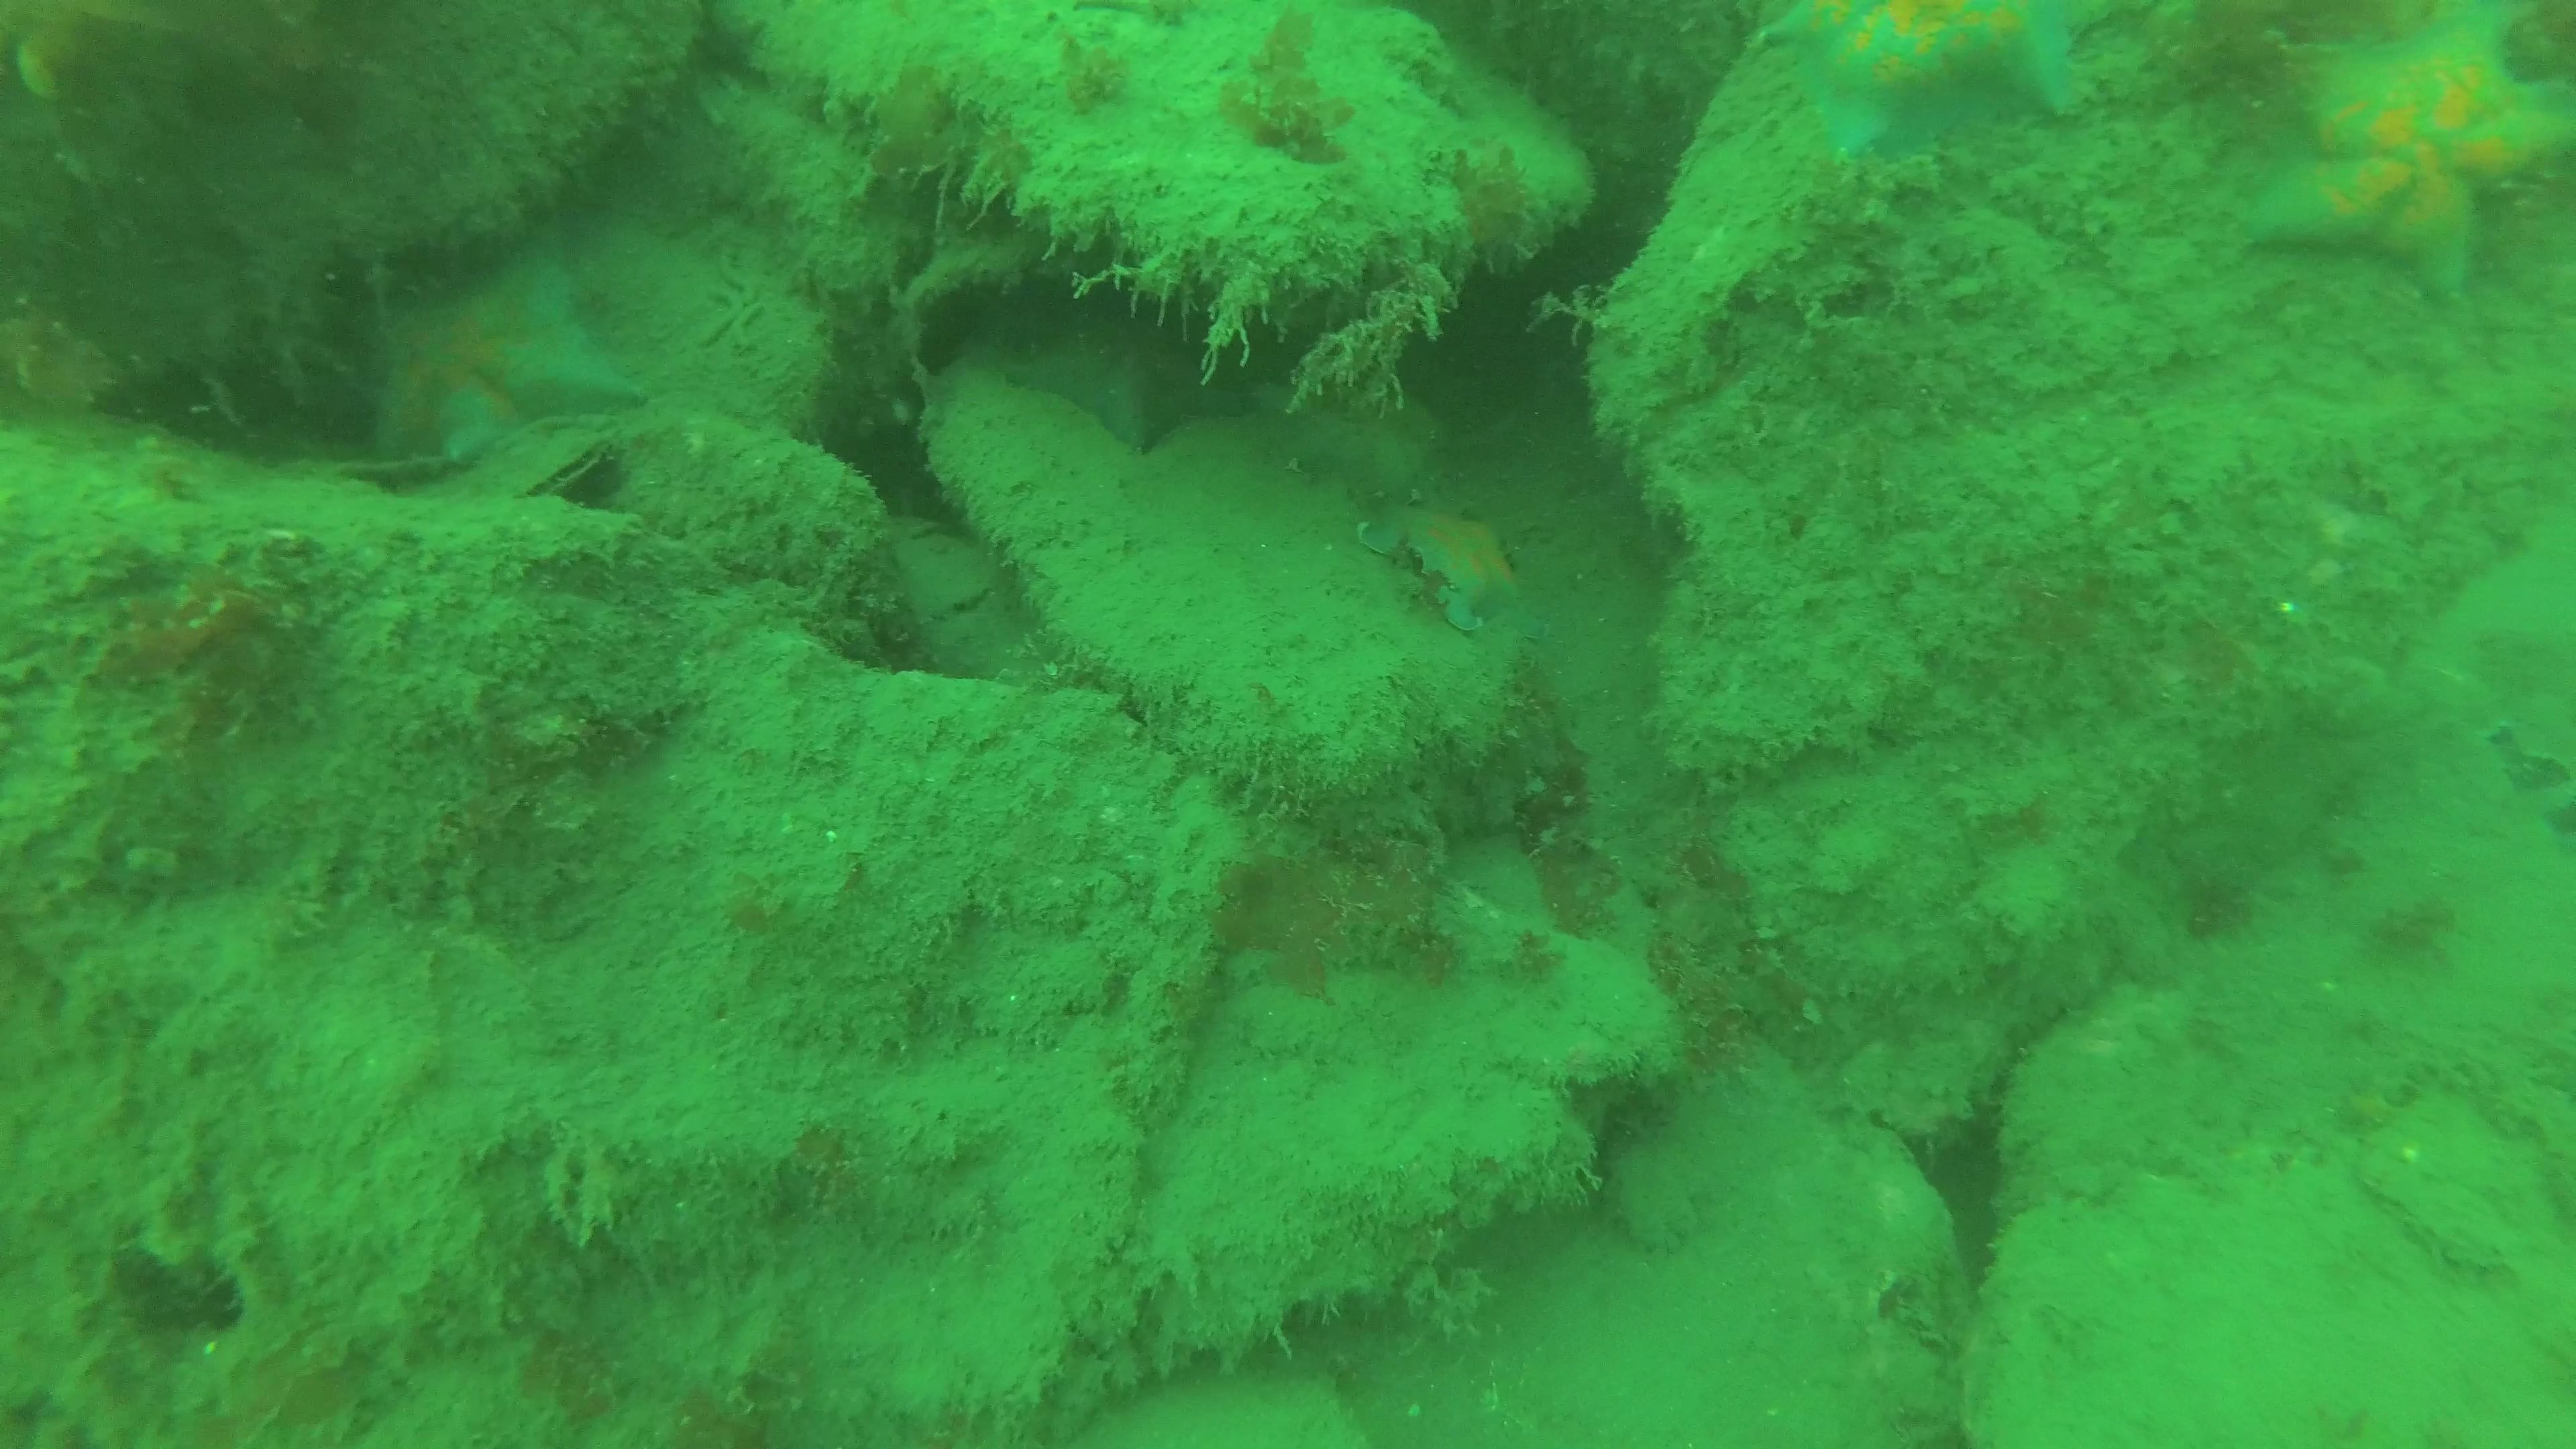starfish: (2227, 0, 2576, 313), (372, 253, 644, 478), (1753, 0, 2084, 149), (1012, 310, 1265, 451), (1348, 485, 1523, 632)
